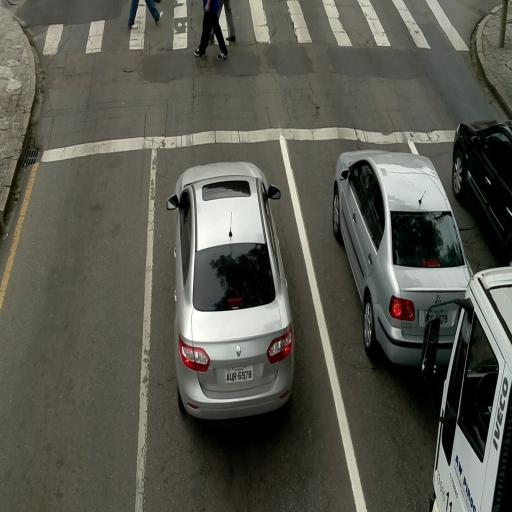car: (167, 161, 292, 420), (332, 150, 467, 366), (452, 121, 512, 263)
others: (423, 267, 512, 511)
